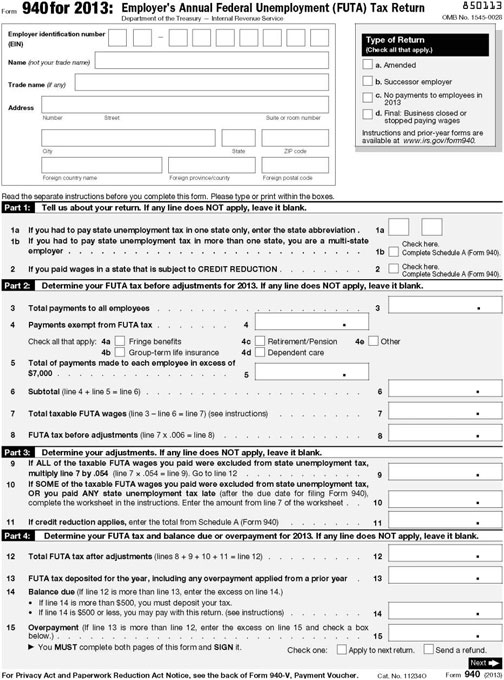checkbox: (360, 56, 375, 71), (360, 72, 375, 87), (360, 89, 375, 104), (360, 106, 375, 121), (386, 243, 401, 258), (386, 260, 401, 275), (366, 332, 381, 347), (252, 332, 267, 347), (252, 343, 267, 358), (112, 332, 127, 347), (112, 344, 127, 359), (334, 641, 349, 656), (421, 641, 436, 656)
textbox: (39, 93, 331, 115), (72, 70, 332, 92), (92, 48, 331, 70), (39, 126, 218, 148), (385, 292, 504, 316), (253, 308, 372, 332), (253, 360, 372, 384), (385, 375, 504, 399), (385, 397, 504, 421), (385, 420, 504, 444), (385, 459, 504, 483), (385, 486, 504, 510), (385, 506, 504, 530), (385, 539, 504, 563), (385, 562, 504, 586), (385, 598, 504, 622), (385, 619, 504, 643), (39, 153, 164, 175), (166, 153, 258, 175), (259, 153, 331, 175), (260, 126, 331, 148), (220, 126, 258, 148), (386, 215, 413, 238), (419, 215, 446, 238), (261, 25, 284, 48), (284, 25, 307, 48), (308, 26, 331, 49), (106, 27, 129, 48), (131, 27, 154, 48), (167, 27, 190, 48), (190, 27, 213, 48), (214, 26, 237, 47), (237, 27, 260, 48)
